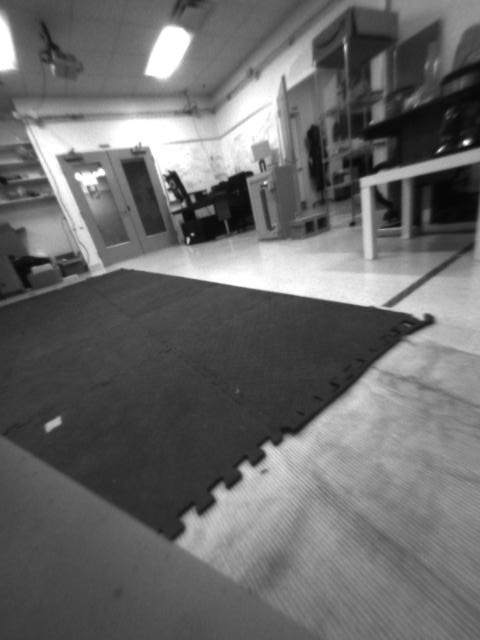coffee_pot: (434, 65, 480, 153)
